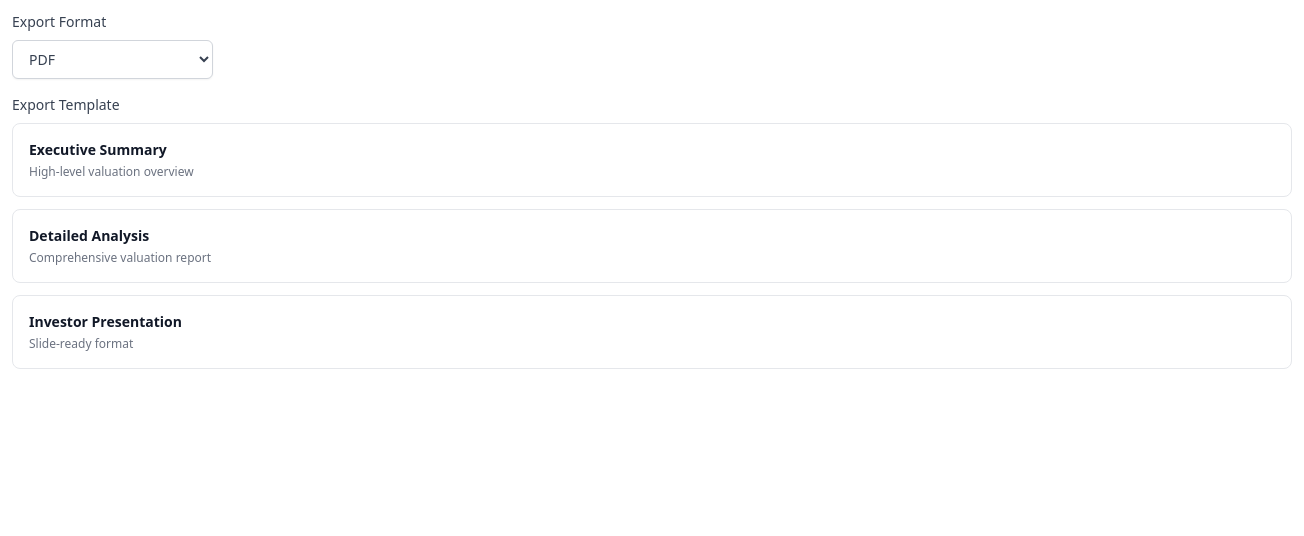
Test case: ValuationExportPicker › should show template preview on selection
The width and height of the screenshot is (1304, 536).
Click the button "Executive Summary": [98, 150] box [12,123,1292,197]
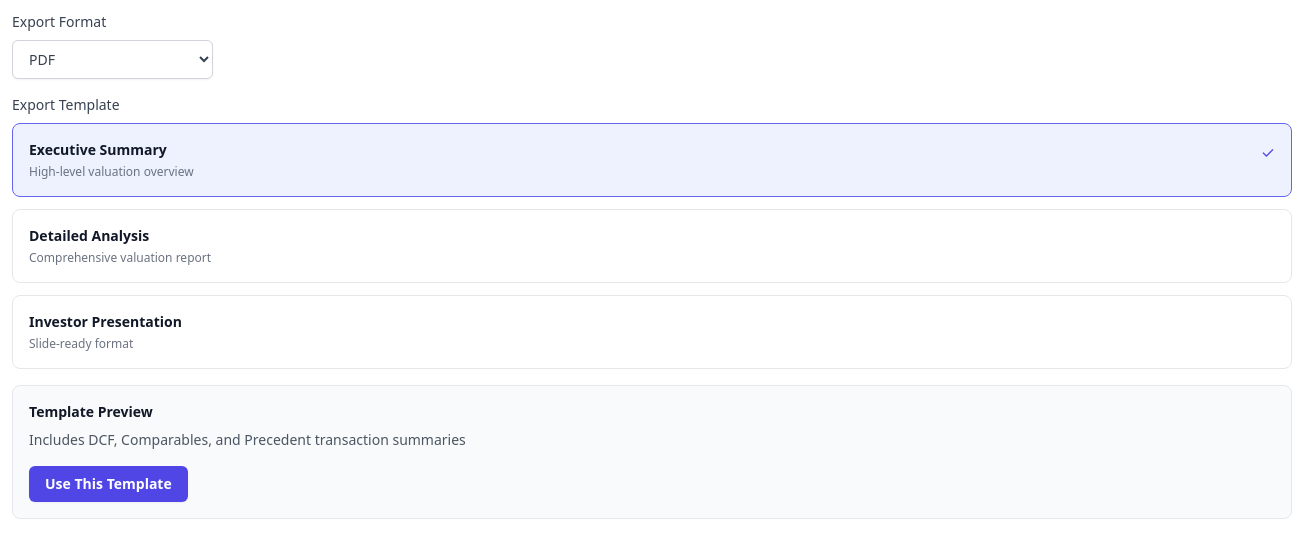
Expected: the text "Includes DCF, Comparables, and Precedent transaction summaries" is shown, [29,430,466,449]
